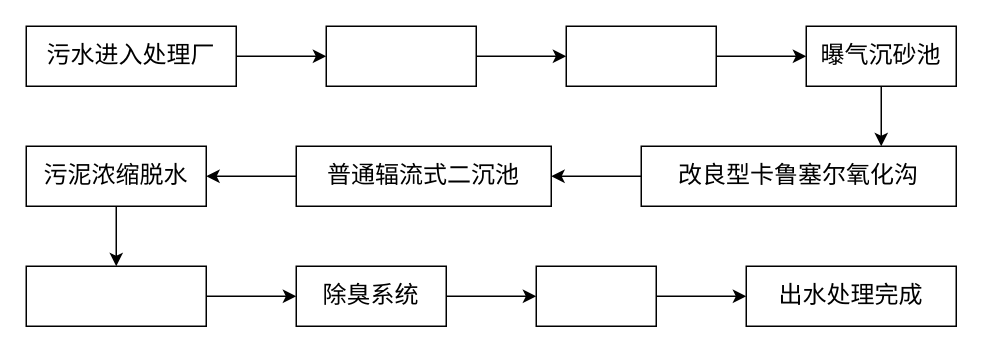
This 983x353 diagram has some shape labels left out. Here are the shapes that lost their labels. From the top down, the box of each, then its label:
(325, 25, 476, 86): 粗/细格栅
(565, 25, 716, 86): 提升泵房
(25, 265, 206, 326): 污泥回流系统
(535, 265, 656, 326): 消毒池
